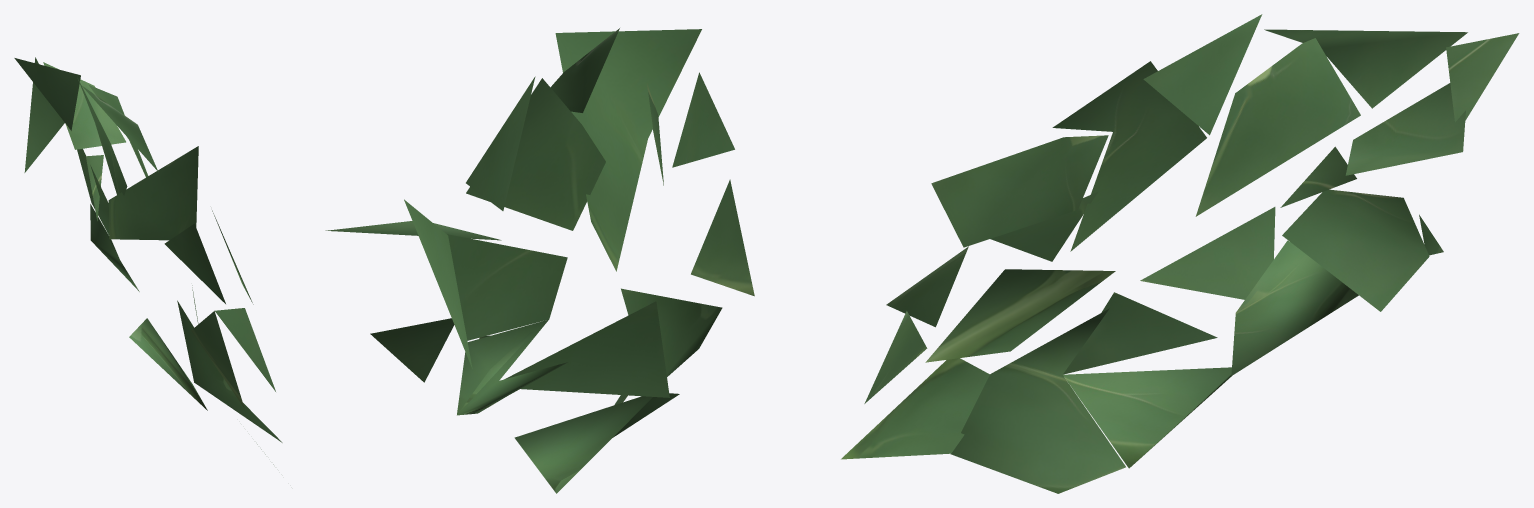
File: single_leaf_64.glb
3 renders of one model, left to right at view 1: azimuth 30°, elevation 25°; view 2: azimuth 150°, elevation 25°; view 3: azimuth 270°, elevation 25°, orthographic. The views are drawn at different scales.
Visible parts, largest first — view 1: tripo_node_51f310f6-96a7-4cf5-a236-280f350ff7fc; view 2: tripo_node_51f310f6-96a7-4cf5-a236-280f350ff7fc; view 3: tripo_node_51f310f6-96a7-4cf5-a236-280f350ff7fc.
Part boxes in pixels (left/top/right/bottom): tripo_node_51f310f6-96a7-4cf5-a236-280f350ff7fc: left=14, top=57, right=282, bottom=464; tripo_node_51f310f6-96a7-4cf5-a236-280f350ff7fc: left=325, top=28, right=754, bottom=493; tripo_node_51f310f6-96a7-4cf5-a236-280f350ff7fc: left=841, top=14, right=1519, bottom=493.
Bounding box in the file's own units: 0.1911 × 0.5872 × 0.8207.
Materials: 1 (1 with a texture image).
